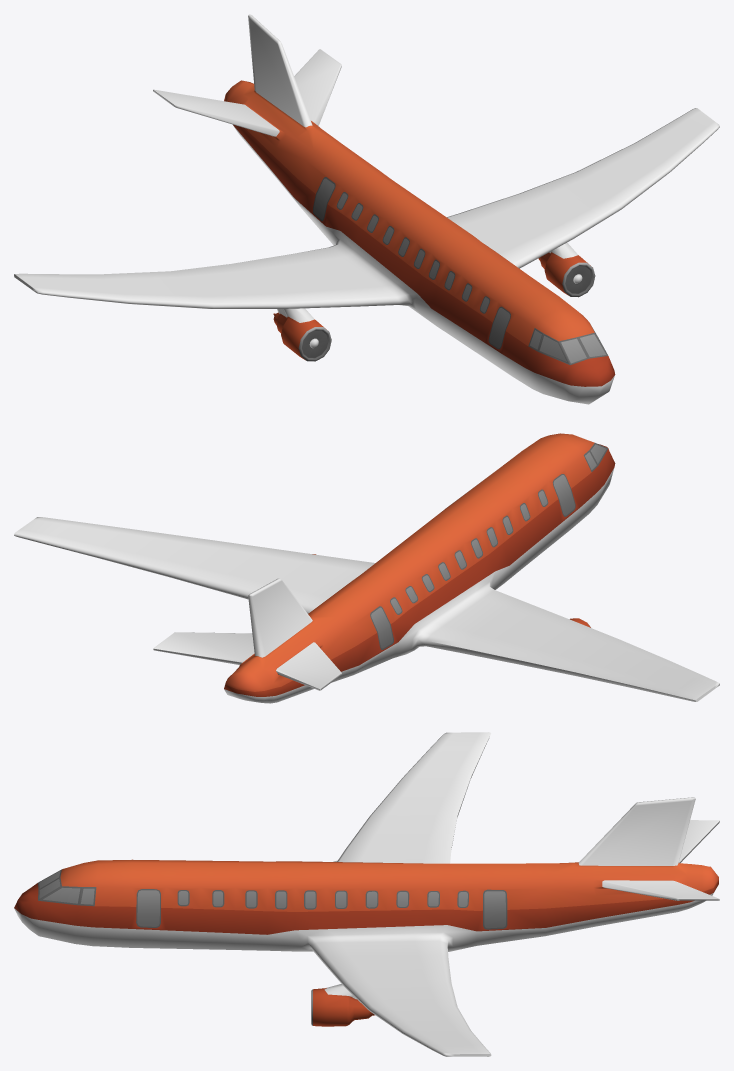
File: red_plane_without_gear.glb
3 views of the same model, one above another, from view 1: azimuth 30°, elevation 25°; view 2: azimuth 150°, elevation 25°; view 3: azimuth 270°, elevation 25° (orthographic). The views are drawn at different scales.
Parts seen in each view (by area): view 1: red_plane_without_gear; view 2: red_plane_without_gear; view 3: red_plane_without_gear.
Part boxes in pixels (x1=…): red_plane_without_gear: x1=14, y1=14, x2=719, y2=404; red_plane_without_gear: x1=14, y1=433, x2=719, y2=703; red_plane_without_gear: x1=14, y1=732, x2=719, y2=1056.
Size of the model in its own units: 20.96 by 5.01 by 19.42.
1 material, 1 textured.
